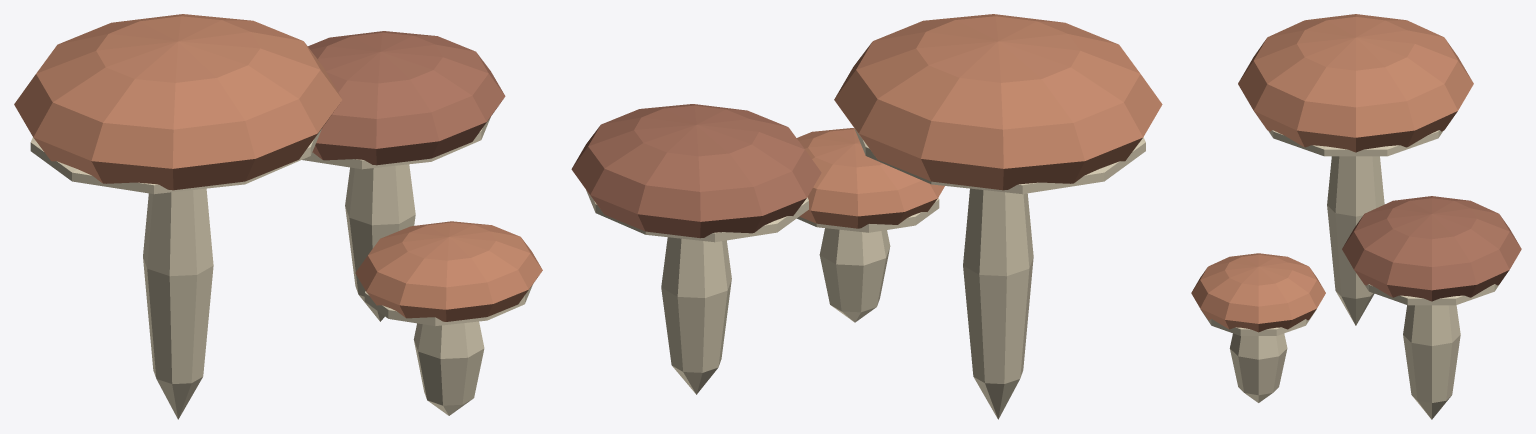
Rendered from woodland-mushroom-cluster-01.glb.
The picture shows the model from 3 angles, left to right: view 1: azimuth 30°, elevation 25°; view 2: azimuth 150°, elevation 25°; view 3: azimuth 270°, elevation 25°; orthographic projection. The views are drawn at different scales.
Parts seen in each view (by area): view 1: woodland-mushroom-cluster-01; view 2: woodland-mushroom-cluster-01; view 3: woodland-mushroom-cluster-01.
Part boxes in pixels (box(x1,y1,x2,y2)): woodland-mushroom-cluster-01: box(14, 14, 542, 419); woodland-mushroom-cluster-01: box(571, 14, 1162, 419); woodland-mushroom-cluster-01: box(1191, 14, 1521, 419).
Size of the model in its own units: 0.147 by 0.1048 by 0.1088.
